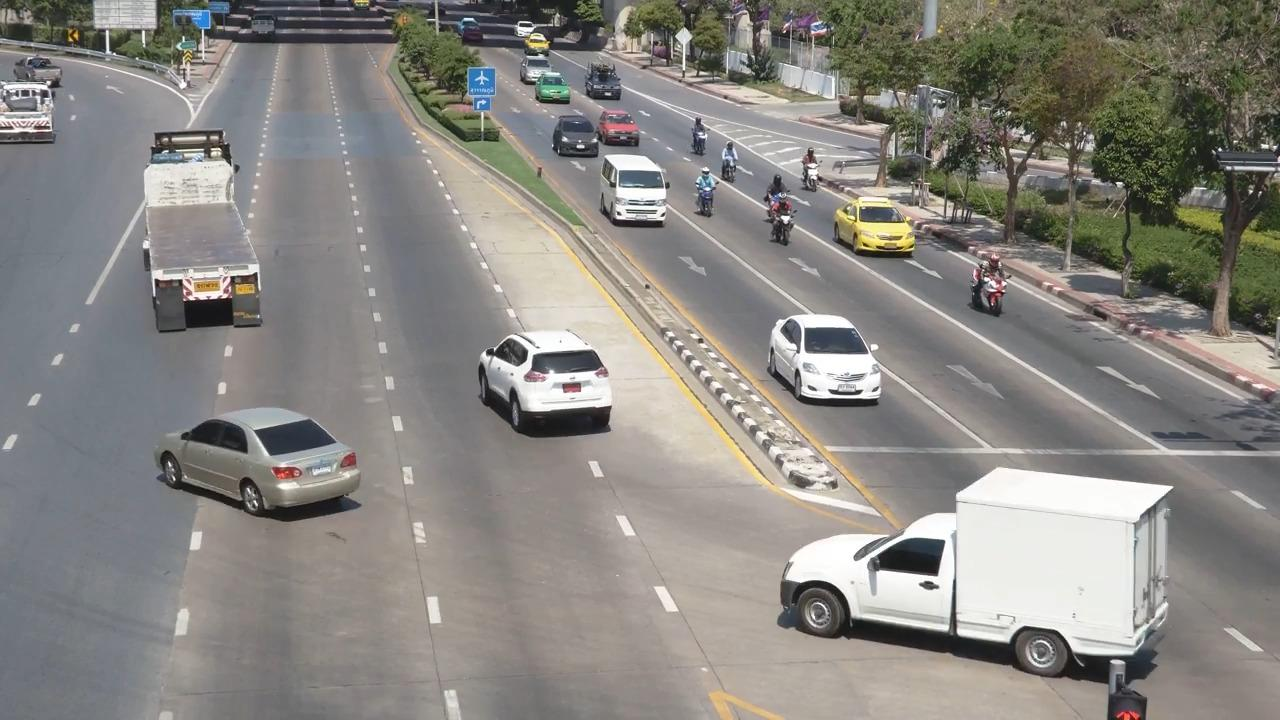CAR: (751, 436, 1195, 703), (151, 383, 372, 526), (469, 325, 638, 447), (762, 296, 890, 413), (596, 145, 673, 230), (826, 190, 912, 261), (0, 78, 56, 159), (540, 105, 606, 171), (587, 107, 647, 151), (13, 50, 66, 95), (577, 60, 626, 107), (240, 8, 282, 54), (534, 67, 576, 101)
HGV_BUS: (114, 127, 297, 355)
MOTOR: (956, 242, 1021, 324), (749, 188, 809, 253), (710, 131, 752, 189), (679, 110, 714, 168), (791, 139, 826, 189), (689, 169, 719, 217)
